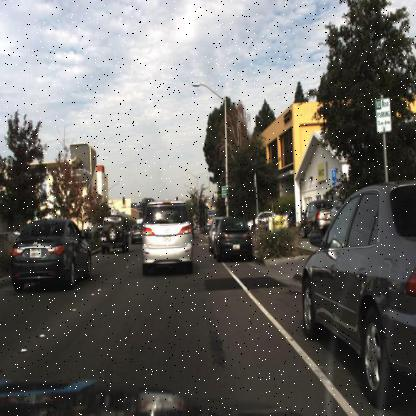car: (296, 167, 416, 408), (3, 197, 99, 307), (134, 188, 202, 287), (208, 213, 258, 266), (294, 186, 336, 244), (94, 206, 128, 261), (244, 199, 282, 241), (123, 211, 148, 252), (206, 212, 219, 262)
